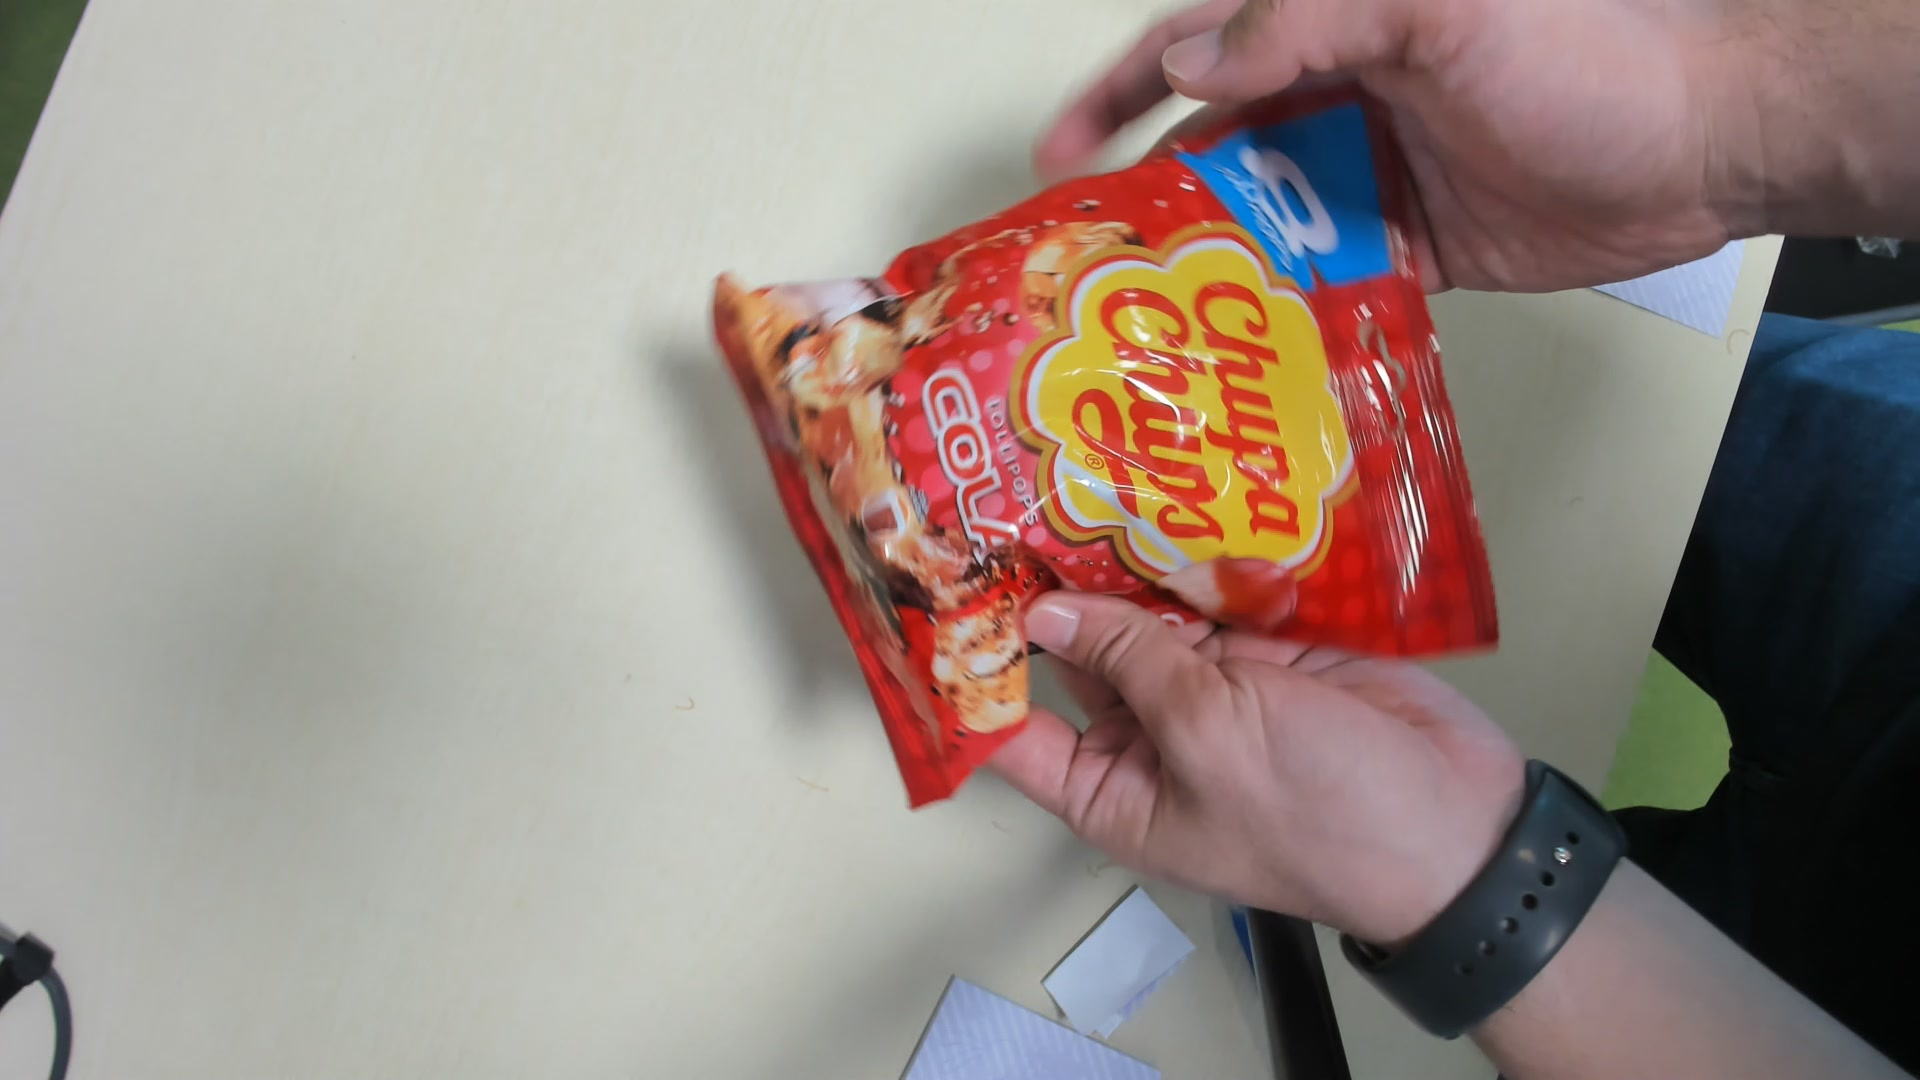SweetsChocolatesOthers_0-99g_NonHalal_Nonhealthy: (724, 88, 1505, 816)
